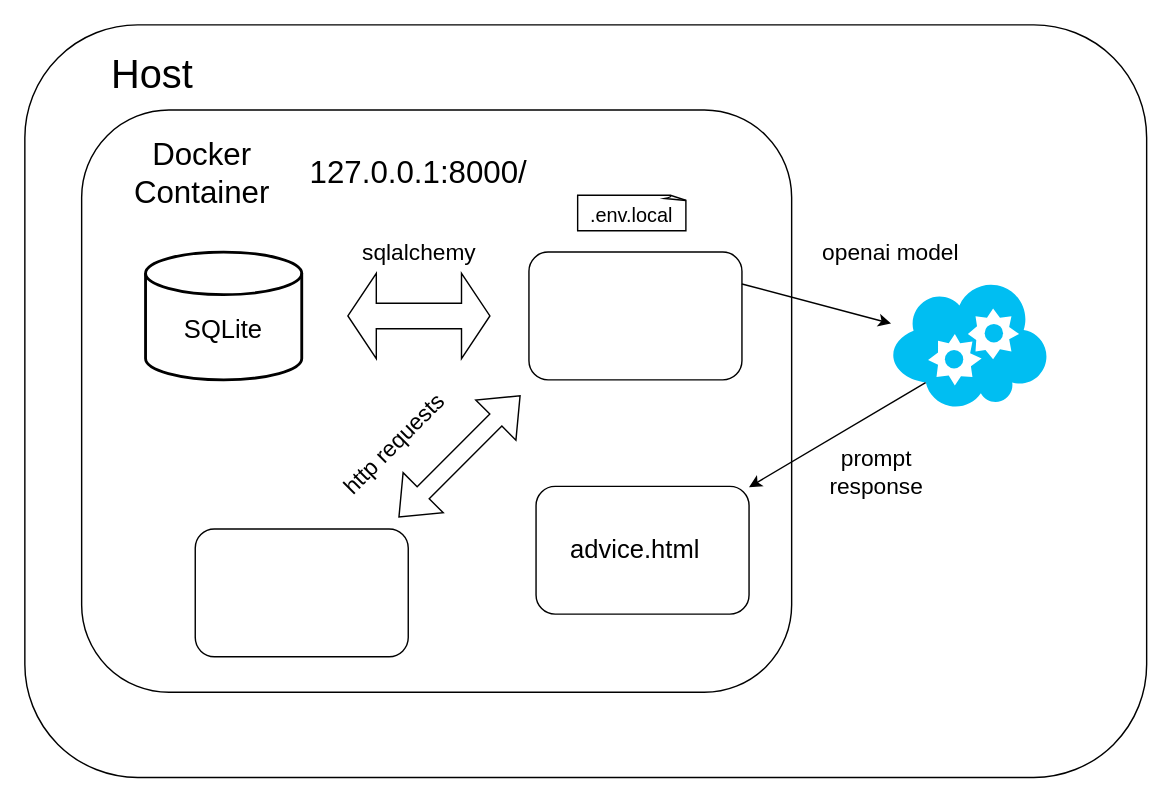
The diagram is 1172 pixels wide and 802 high, and some of its shapes have lost their labels. Here are the shapes that lost their labels. From the top down, the centre of each, then its label:
point (635, 315): main.py
point (301, 592): home.html
